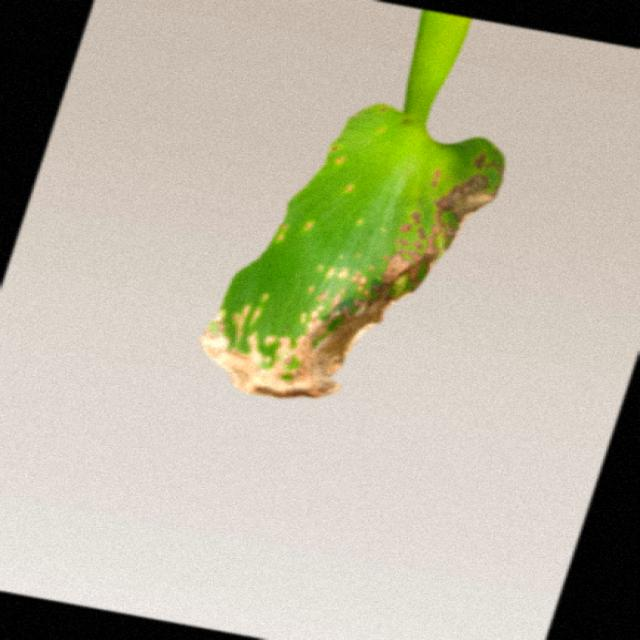daun berpenyakit bercak: (202, 11, 503, 398)
